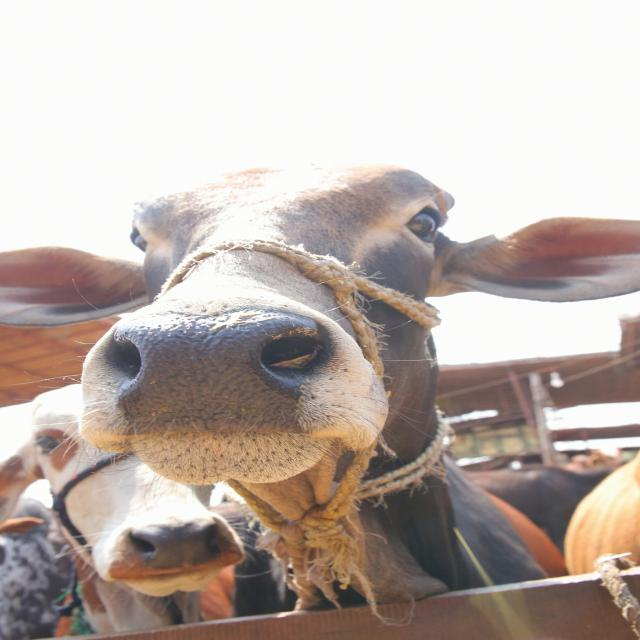muzzles: (97, 307, 343, 447), (115, 516, 239, 576)
